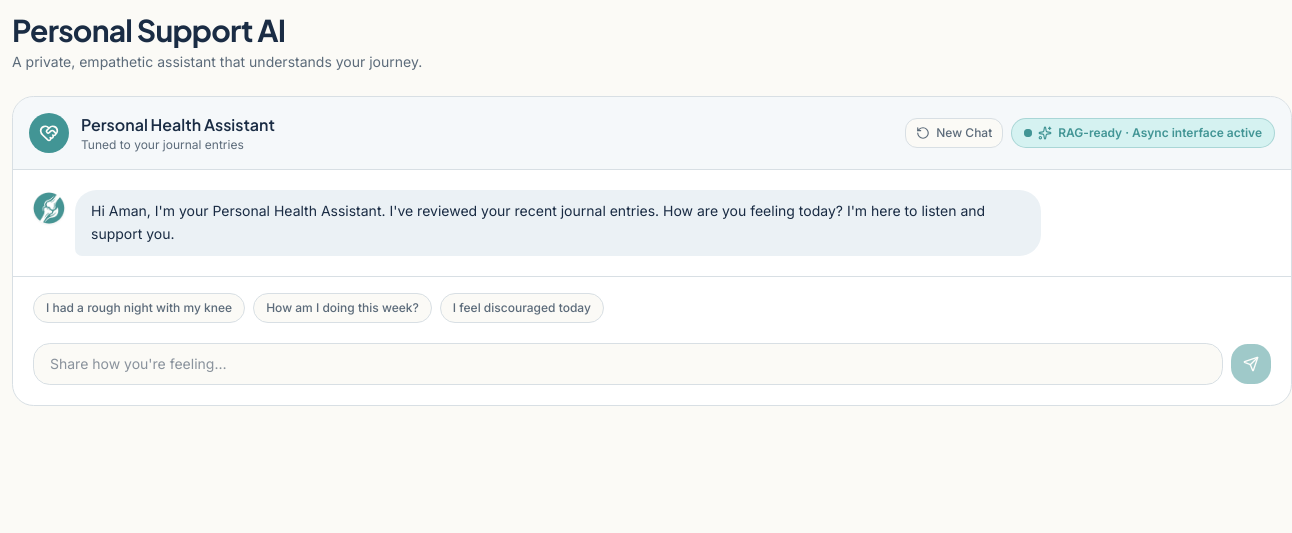
Scenario: PersonalAI › shows a loading/typing placeholder while awaiting reply (send button disabled)
The image size is (1292, 533).
Type "How am I doing?" into the field at (628, 364), box [33, 342, 1223, 384]
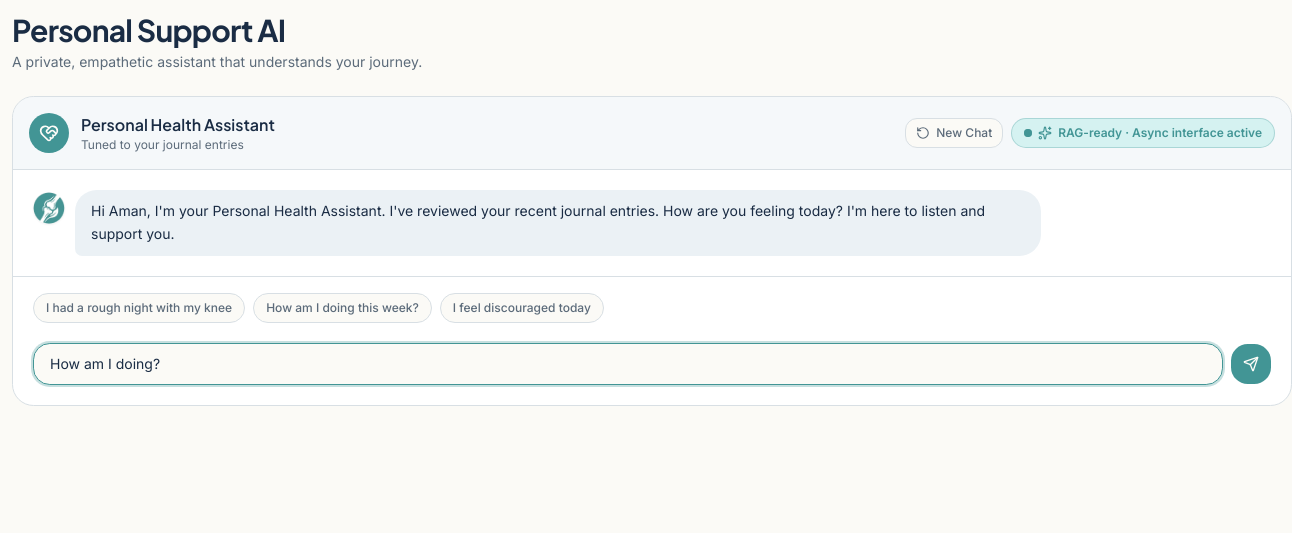
Press Enter
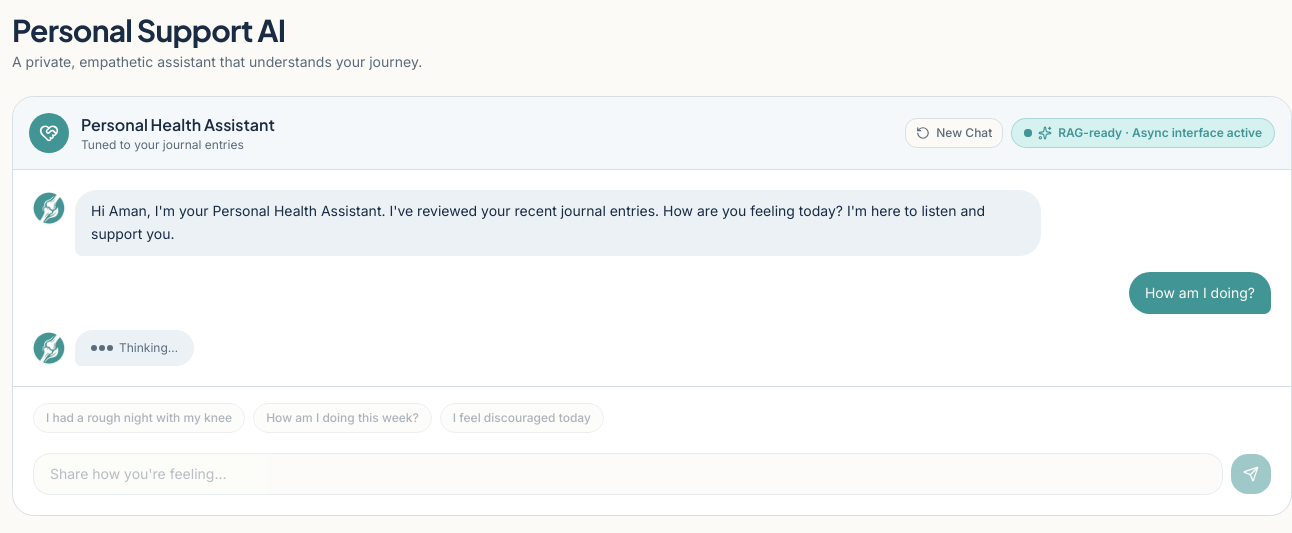
Expected: the button named "send" is disabled, [1231, 454, 1271, 494]
